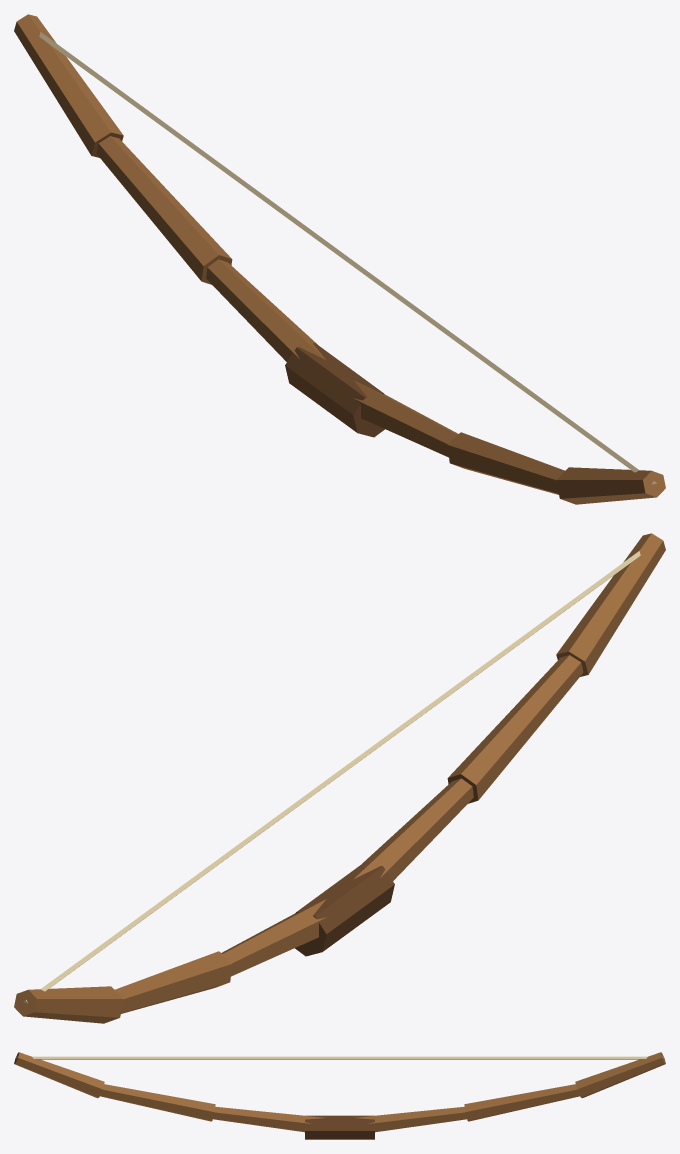
Rendered from Weapon_ShortBow.fbx.
3 renders of one model, top to bottom at view 1: azimuth 30°, elevation 25°; view 2: azimuth 150°, elevation 25°; view 3: azimuth 270°, elevation 25°, orthographic. The views are drawn at different scales.
Visible parts, largest first — view 1: Weapon_ShortBow; view 2: Weapon_ShortBow; view 3: Weapon_ShortBow.
Part boxes in pixels (bbox=[...]): Weapon_ShortBow: bbox=[14, 14, 665, 504]; Weapon_ShortBow: bbox=[14, 533, 665, 1023]; Weapon_ShortBow: bbox=[14, 1052, 665, 1139].
Bounding box in the file's own units: 0.0175 × 0.0686 × 0.4638.
